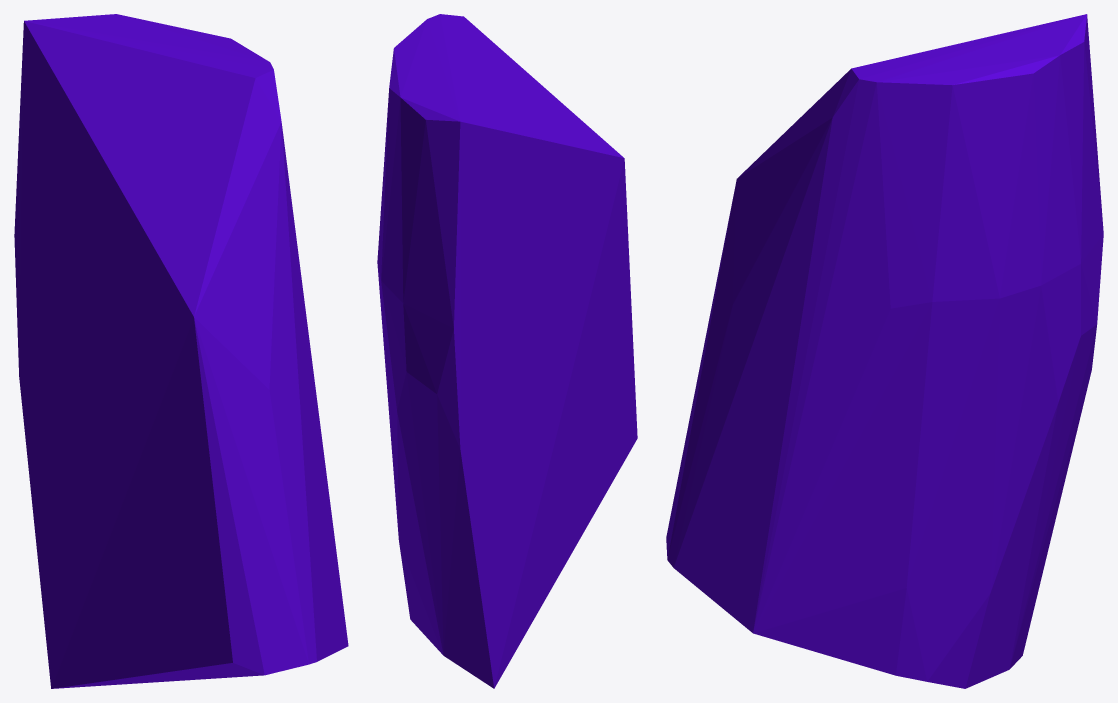
The model's file is arm-L2-mirror_convex_piece_002.obj.
3 views of the same model, side by side, from view 1: azimuth 30°, elevation 25°; view 2: azimuth 150°, elevation 25°; view 3: azimuth 270°, elevation 25° (orthographic). The views are drawn at different scales.
Size of the model in its own units: 0.0386 by 0.146 by 0.0897.
